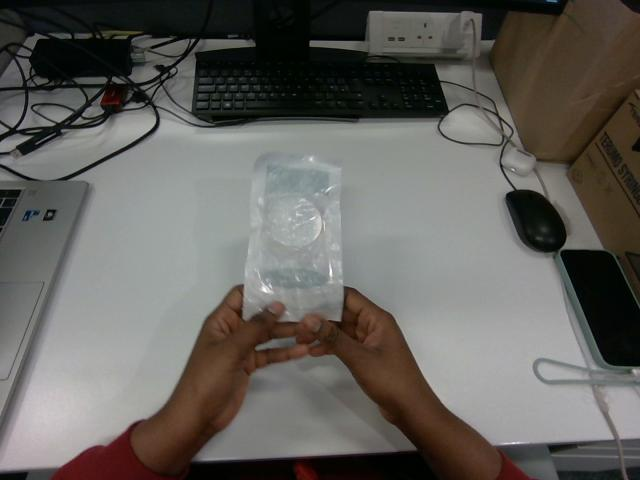gallipot: (243, 153, 343, 320)
